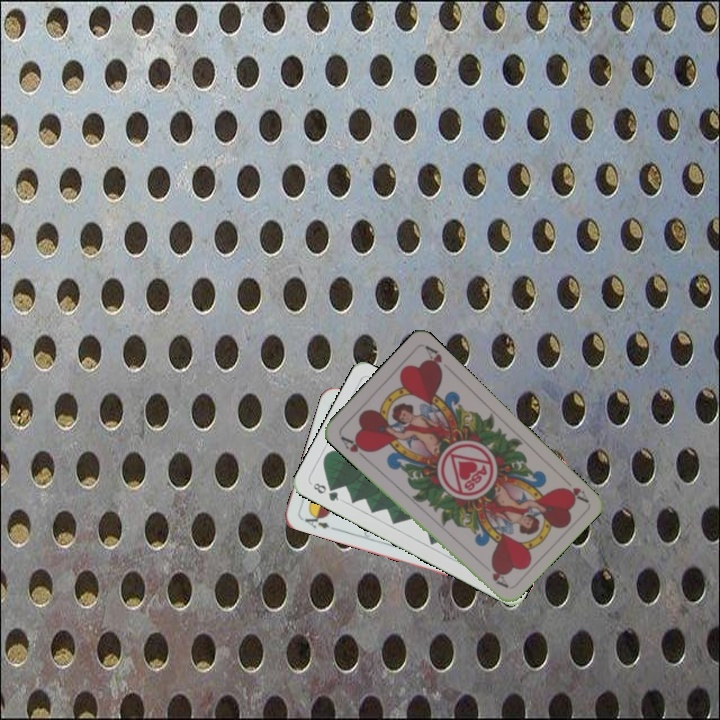EA: (298, 509, 337, 533)
G8: (307, 479, 341, 504)
HA: (557, 472, 590, 505), (336, 432, 372, 462)
